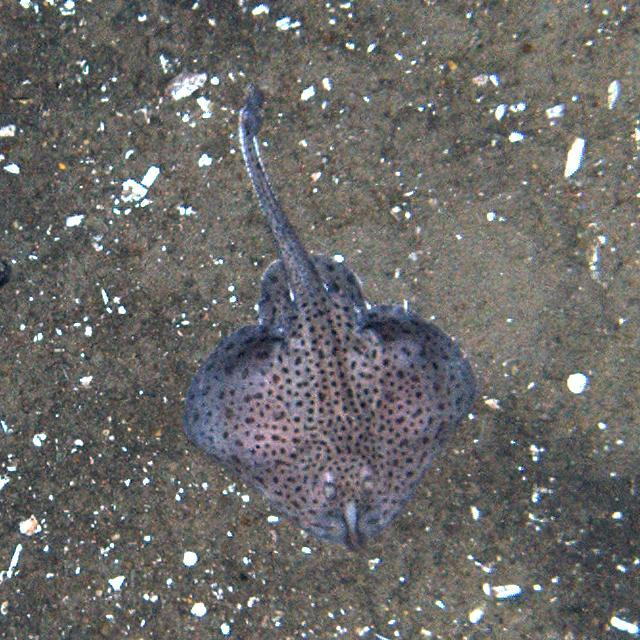skate: (168, 76, 477, 551)
